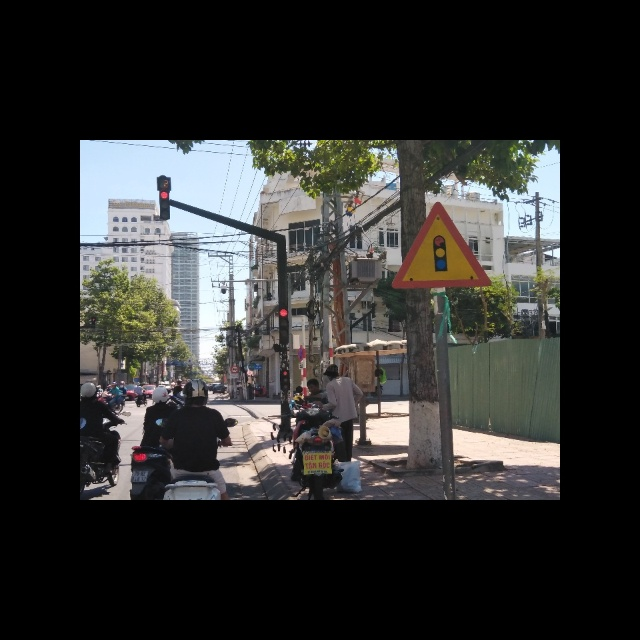Giao nhau có tín hiệu đèn: (388, 201, 491, 289)
Đèn đỏ: (278, 308, 288, 317)
